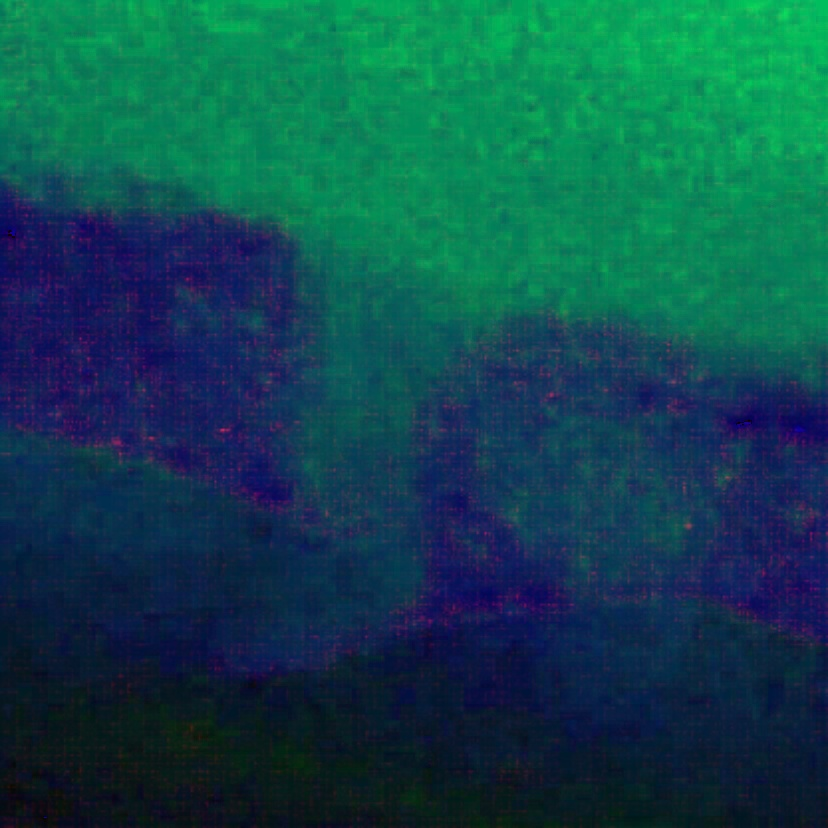rip_current: (163, 191, 556, 631)
